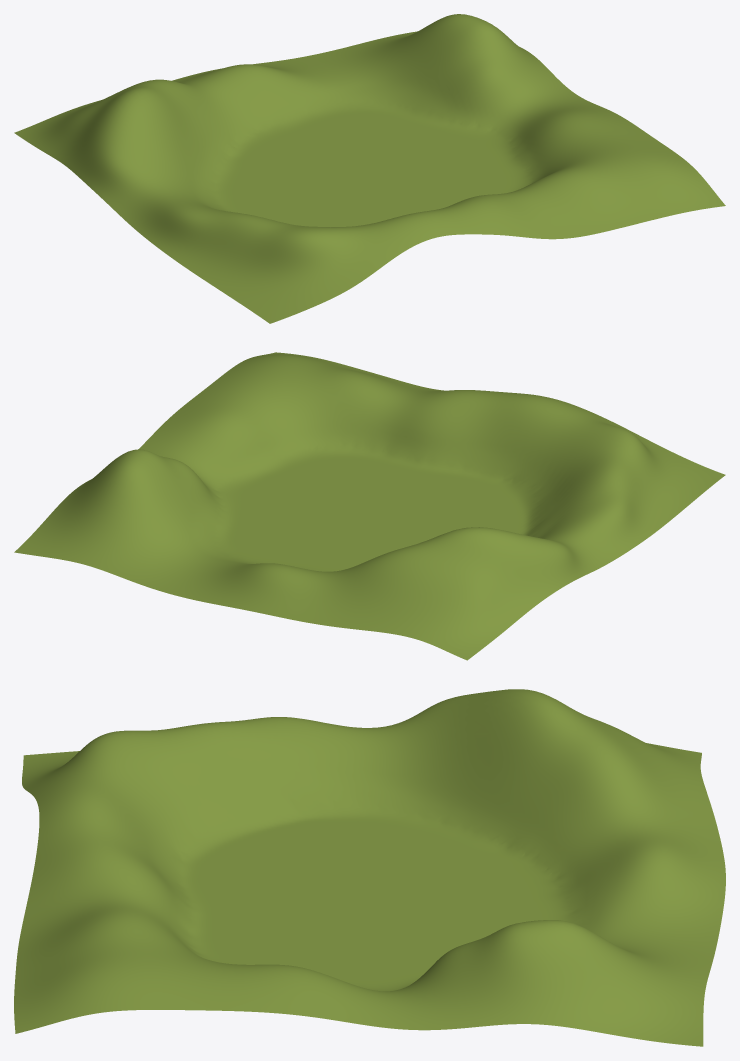
Rendered from landscape.glb.
3 renders of one model, top to bottom at view 1: azimuth 30°, elevation 25°; view 2: azimuth 150°, elevation 25°; view 3: azimuth 270°, elevation 25°, orthographic. The views are drawn at different scales.
Visible parts, largest first — view 1: grass_tile_x8; view 2: grass_tile_x8; view 3: grass_tile_x8.
Part boxes in pixels (x1=…): grass_tile_x8: x1=14, y1=14, x2=725, y2=323; grass_tile_x8: x1=14, y1=352, x2=725, y2=660; grass_tile_x8: x1=14, y1=689, x2=725, y2=1046.
Size of the model in its own units: 4899 by 754 by 4870.
1 material, 1 textured.
